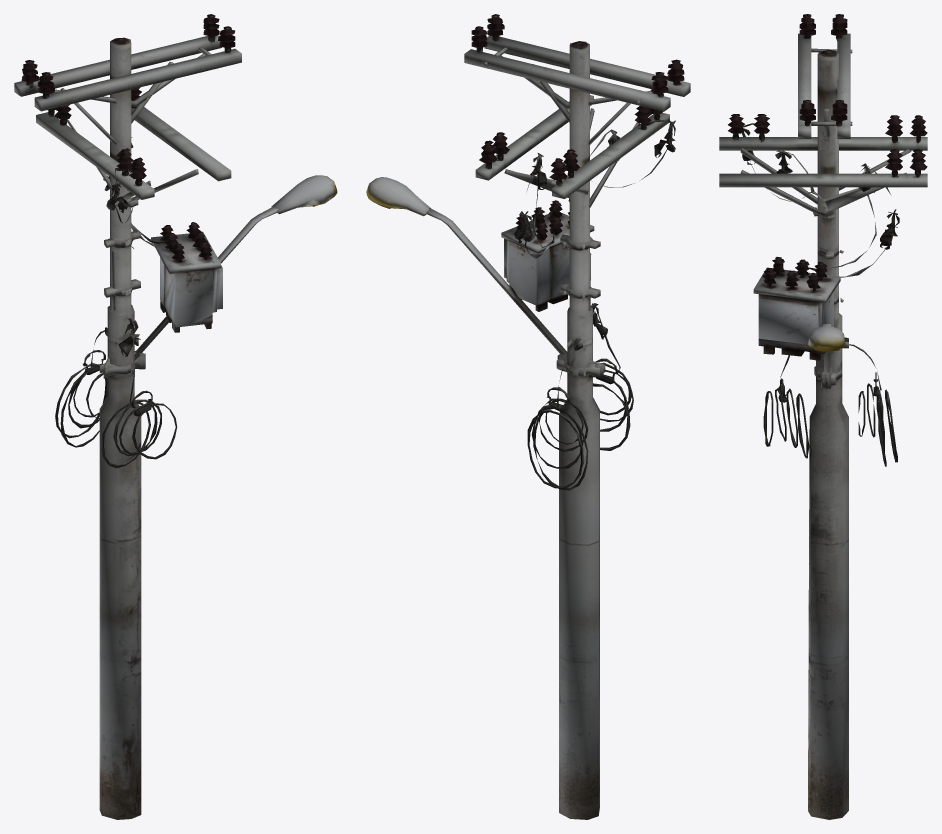
Rendered from javaporcos_mint_poste_trafo.glb.
3 views of the same model, side by side, from view 1: azimuth 30°, elevation 25°; view 2: azimuth 150°, elevation 25°; view 3: azimuth 270°, elevation 25° (orthographic).
Visible parts, largest first — view 1: Poste de concreto com transformador; view 2: Poste de concreto com transformador; view 3: Poste de concreto com transformador.
Part boxes in pixels (<box>): Poste de concreto com transformador: <box>14,14,337,819</box>; Poste de concreto com transformador: <box>366,14,690,819</box>; Poste de concreto com transformador: <box>719,14,927,819</box>.
Size of the model in its own units: 3.33 by 8 by 1.99.
Materials: 1 (1 with a texture image).
